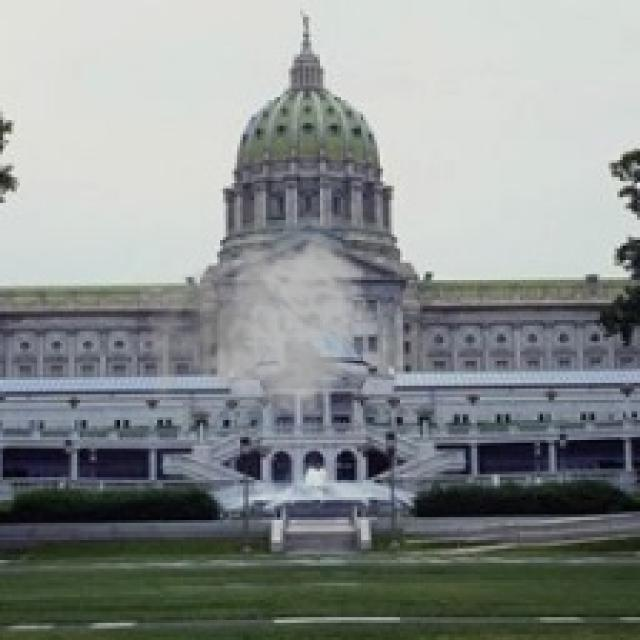smoke: (128, 214, 372, 437)
